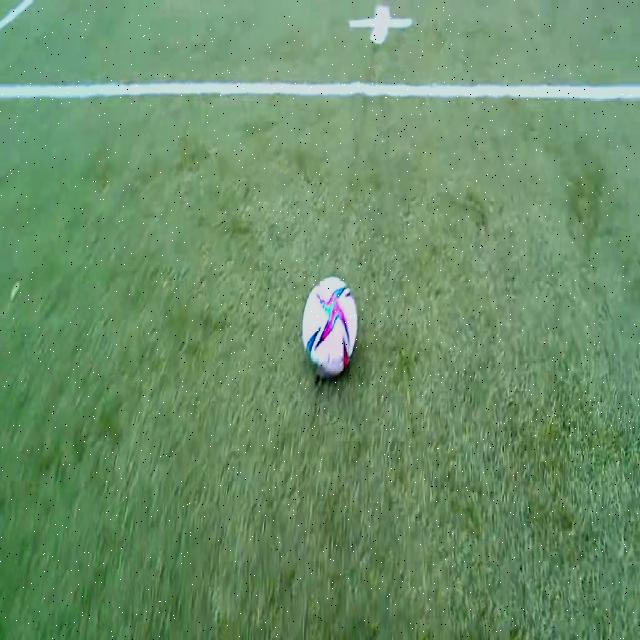ball: (302, 276, 358, 376)
